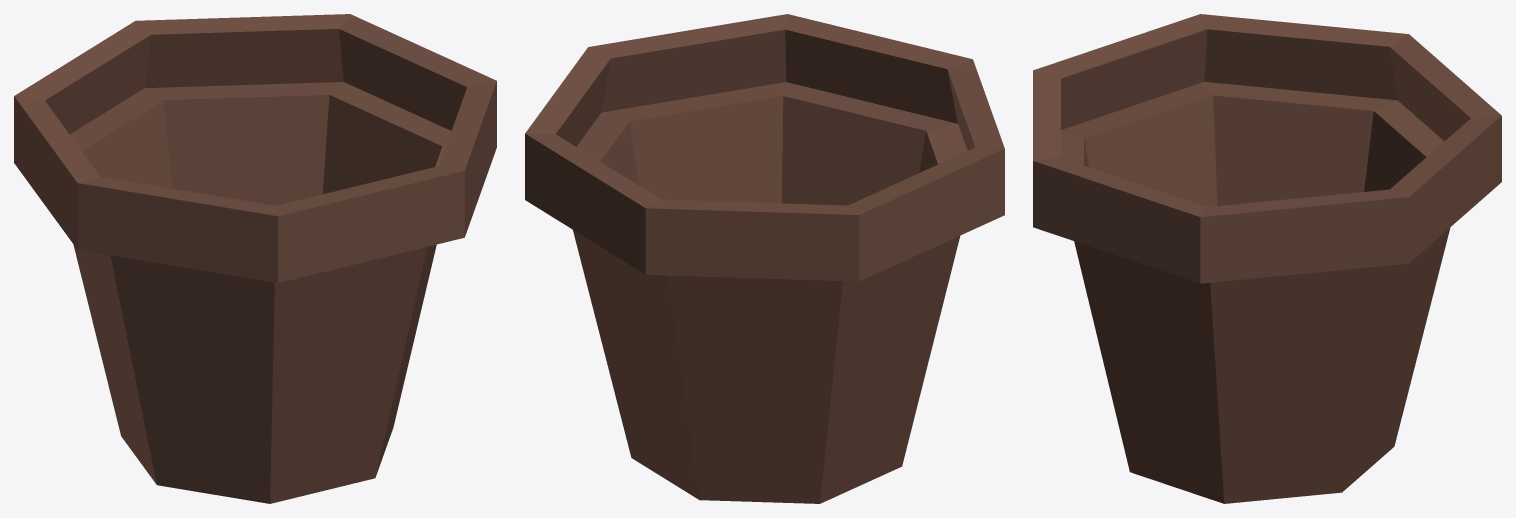
File: pot.fbx
3 renders of one model, left to right at view 1: azimuth 30°, elevation 25°; view 2: azimuth 150°, elevation 25°; view 3: azimuth 270°, elevation 25°, orthographic.
Visible parts, largest first — view 1: pot; view 2: pot; view 3: pot.
Boxes of the visible parts, <box> form: pot: <box>14,14,496,503</box>; pot: <box>525,14,1004,503</box>; pot: <box>1033,14,1501,503</box>.
Size of the model in its own units: 56.77 by 43.12 by 55.35.
